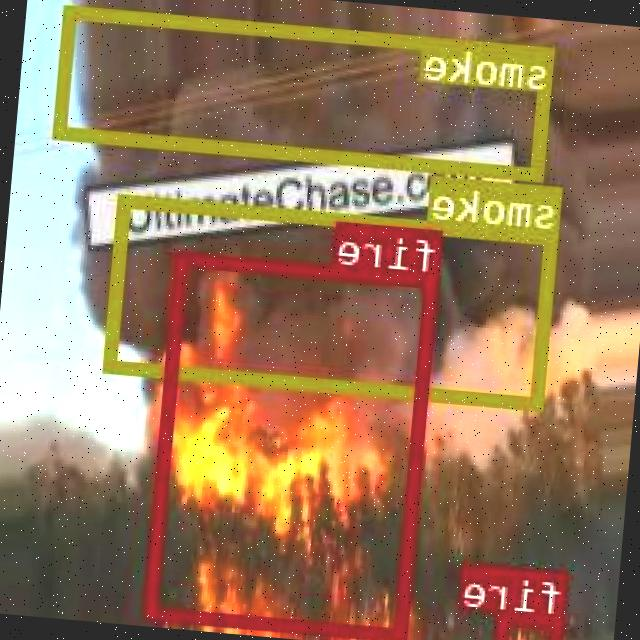fire: (146, 250, 440, 638), (499, 610, 566, 640)
smoke: (107, 192, 562, 407), (56, 5, 556, 178)
